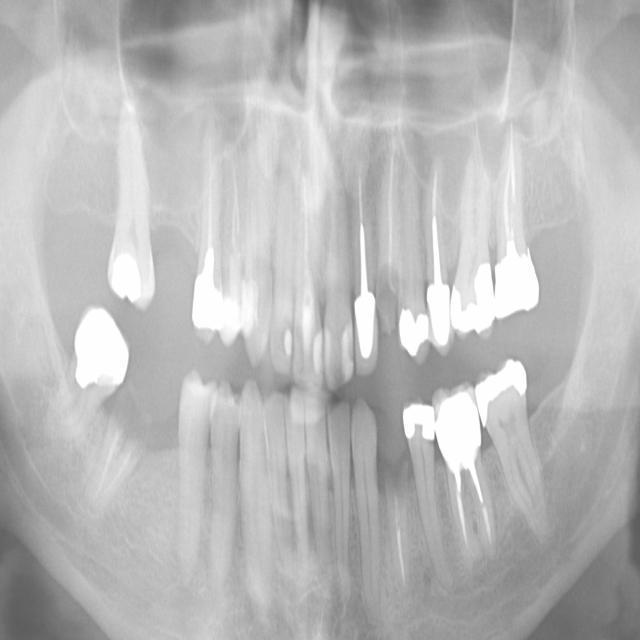infected-teeth: (430, 383, 497, 565), (191, 135, 233, 344), (420, 153, 461, 351), (350, 164, 385, 378)
